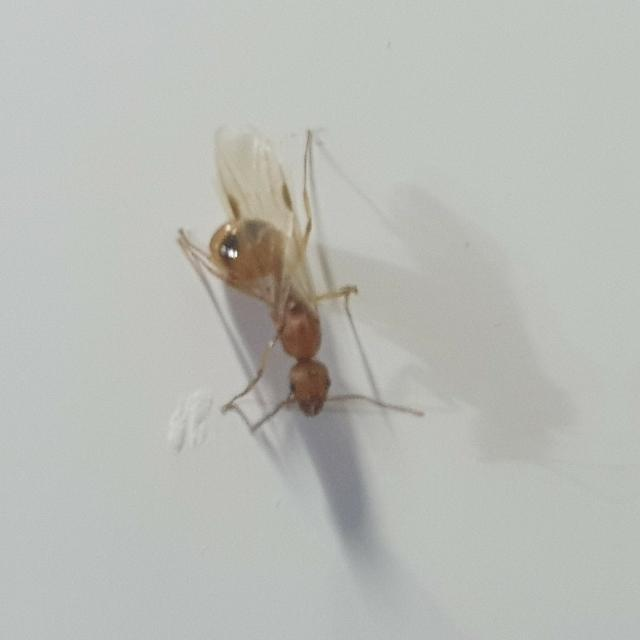Apheanogaster: (168, 152, 400, 456)
